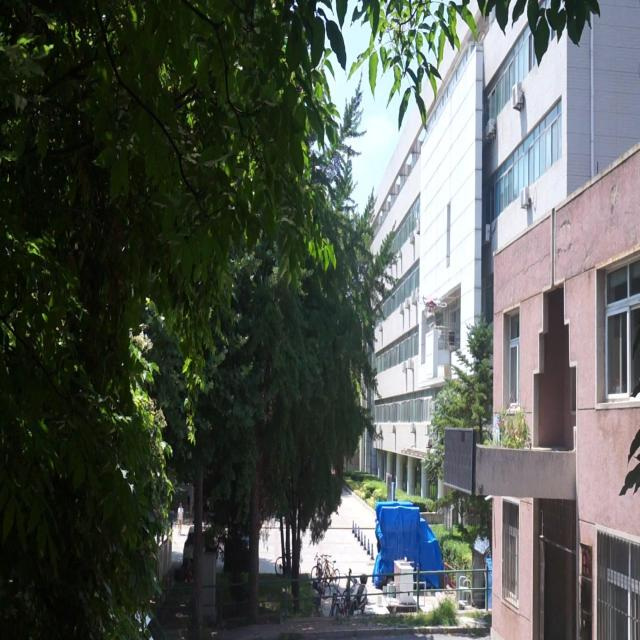drone: (419, 289, 449, 325)
